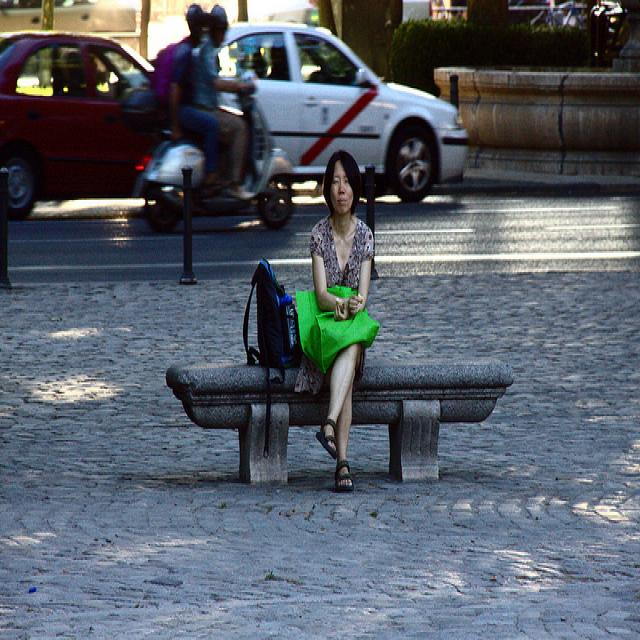motor: (136, 72, 295, 232)
